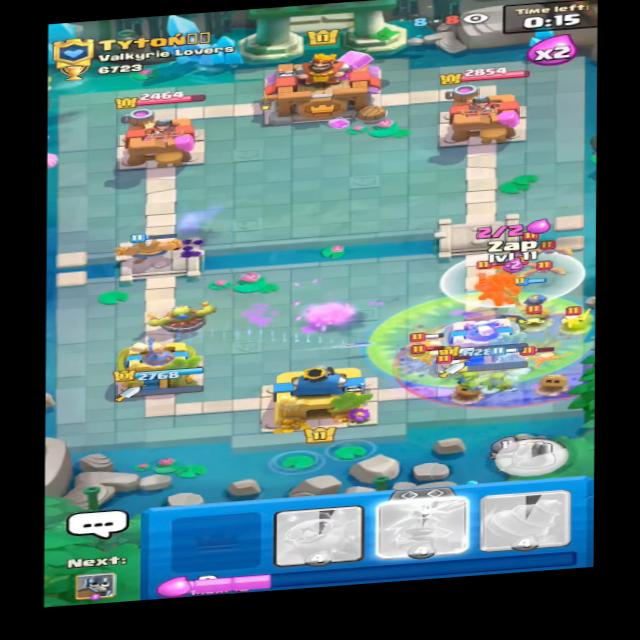bats: (526, 258, 564, 284), (508, 226, 553, 247), (532, 241, 568, 263)
graveyard: (396, 304, 605, 415)
prince: (472, 252, 536, 311)
skeleton: (559, 299, 593, 331), (519, 306, 552, 331), (408, 332, 441, 356), (533, 346, 565, 364)
